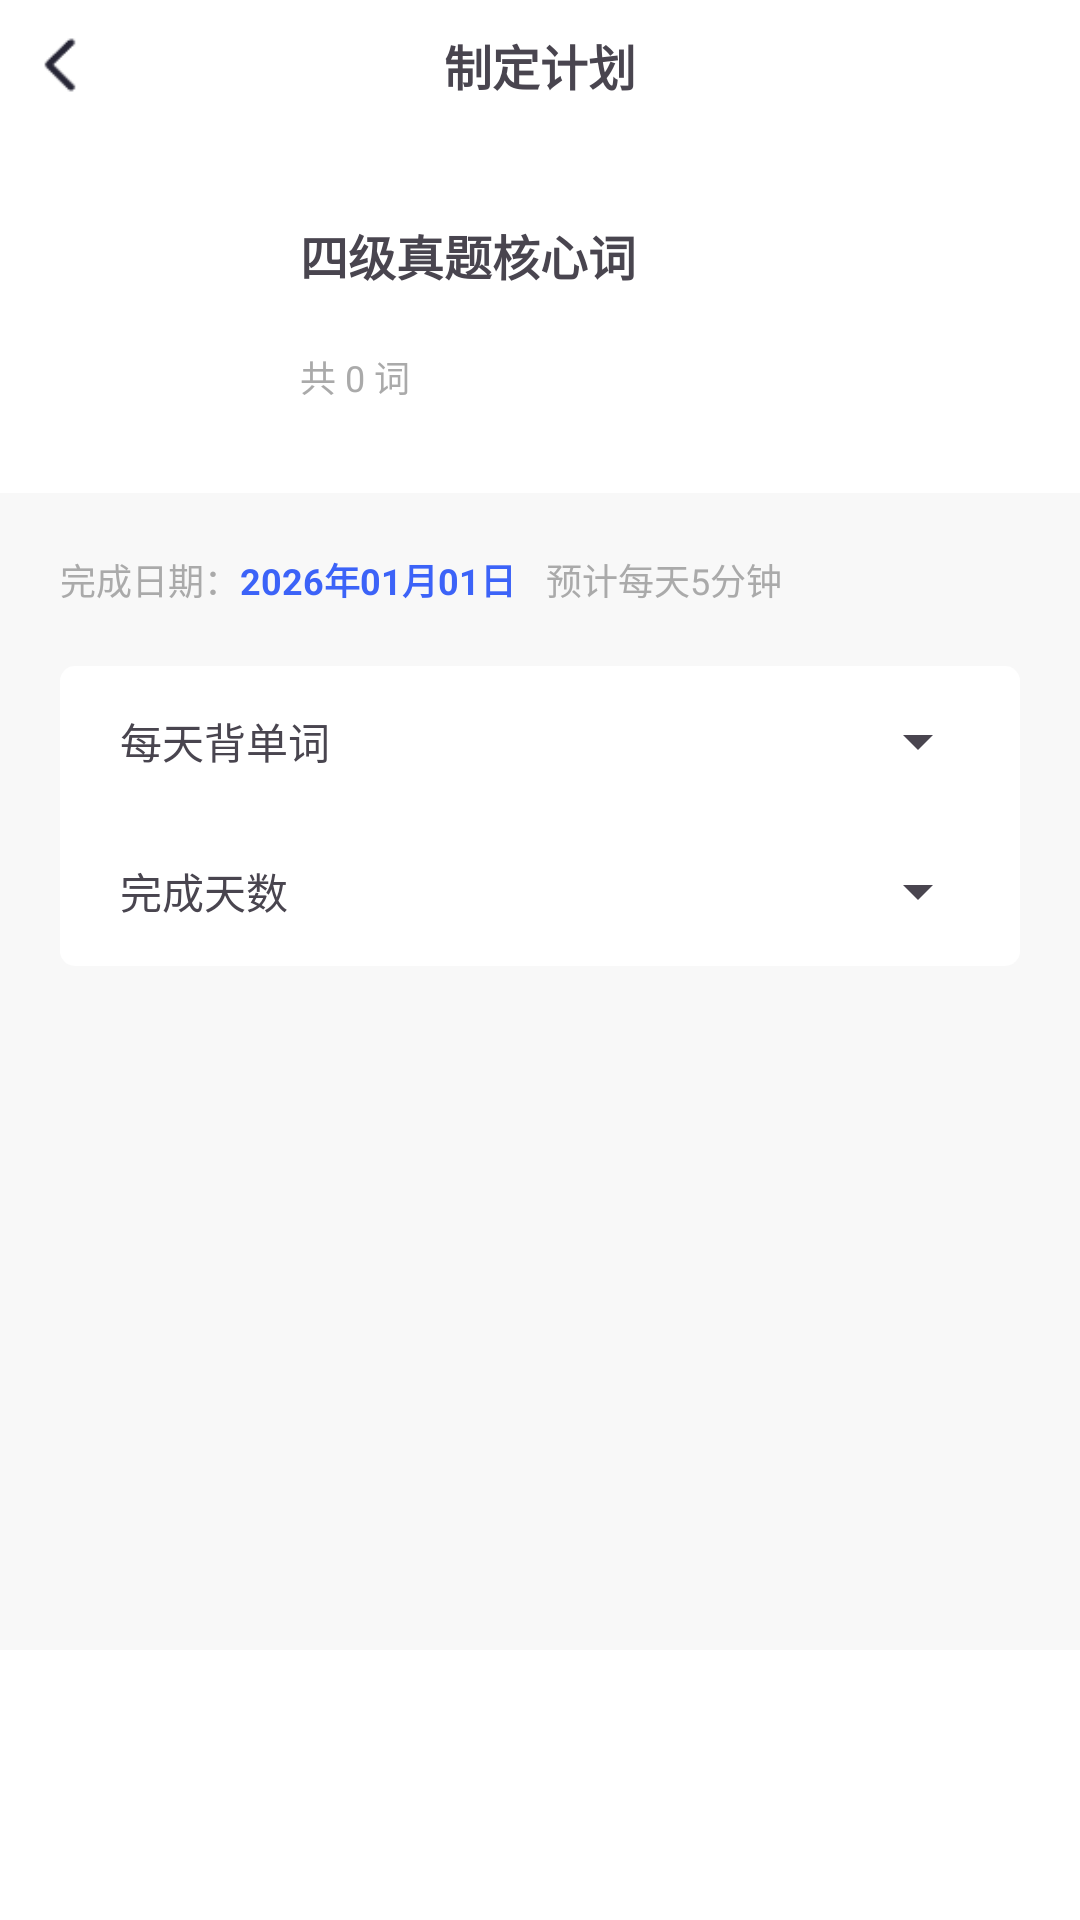

Where to tap for icons on this 1080*1920 app screen, as (x,y):
back arrow: (60,65)
